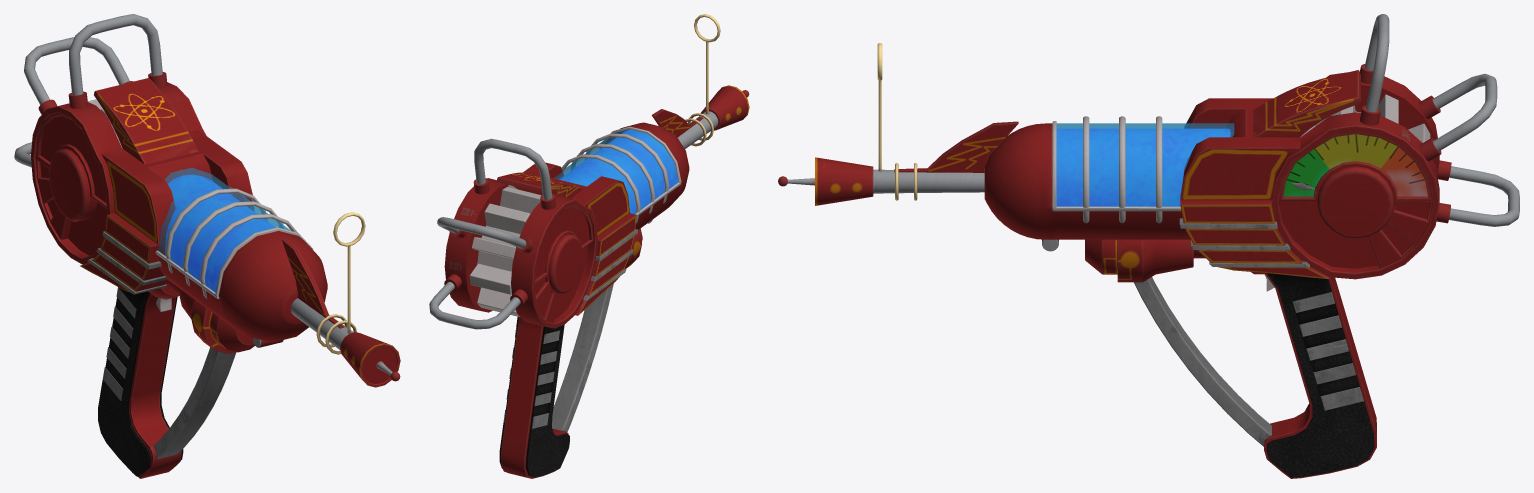
File: ray_gun.glb
3 views of the same model, side by side, from view 1: azimuth 30°, elevation 25°; view 2: azimuth 150°, elevation 25°; view 3: azimuth 270°, elevation 25° (orthographic). The views are drawn at different scales.
Visible parts, largest first — view 1: pCube39; view 2: pCube39; view 3: pCube39.
Part boxes in pixels (bbox=[...]): pCube39: bbox=[14, 14, 400, 478]; pCube39: bbox=[429, 14, 749, 478]; pCube39: bbox=[778, 14, 1519, 478].
Bounding box in the file's own units: 0.3975 × 1.39 × 2.08.
Materials: 4 (4 with a texture image).
